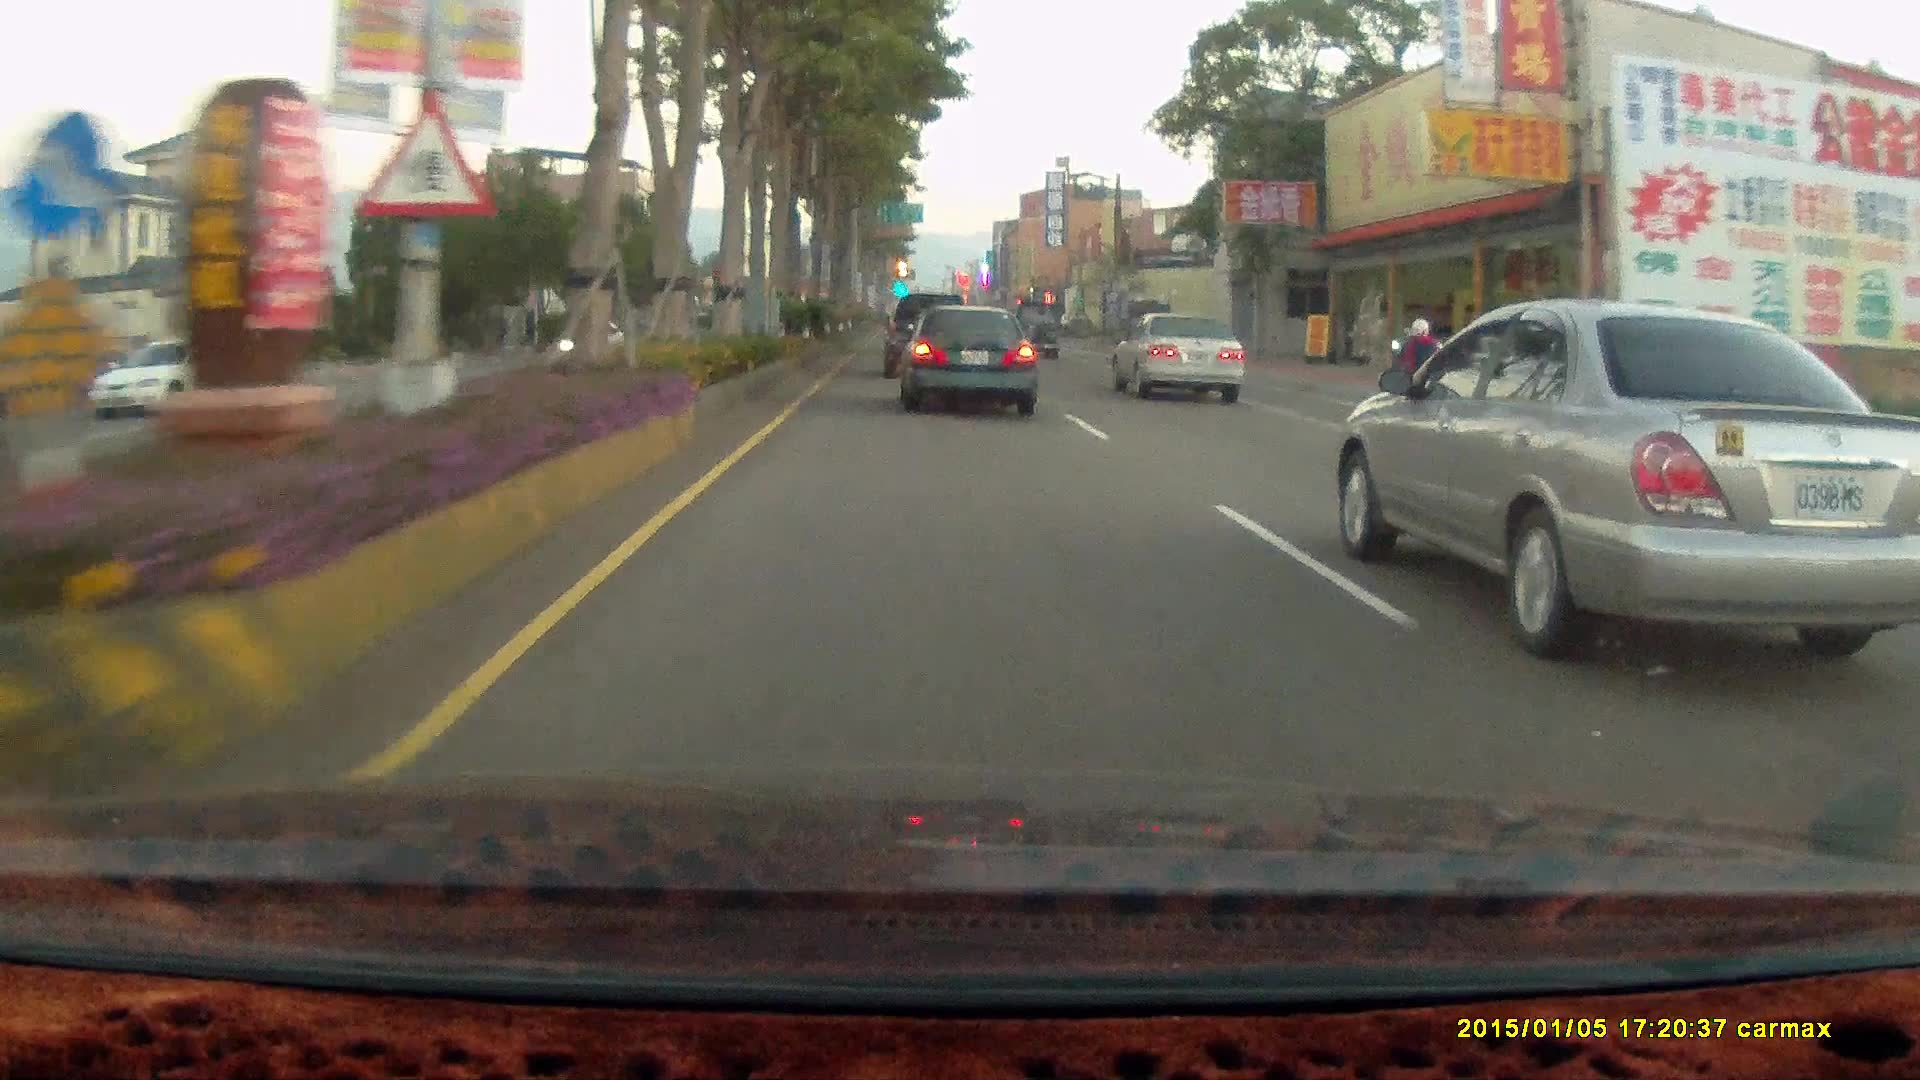rider: (1389, 309, 1448, 428), (1392, 315, 1449, 424)
vehicle: (1342, 289, 1920, 638), (897, 302, 1043, 418), (895, 301, 1037, 413), (63, 328, 251, 404), (88, 336, 256, 420), (1107, 309, 1244, 400), (1122, 302, 1254, 392), (883, 291, 973, 382), (880, 293, 963, 378), (1006, 294, 1060, 359)
